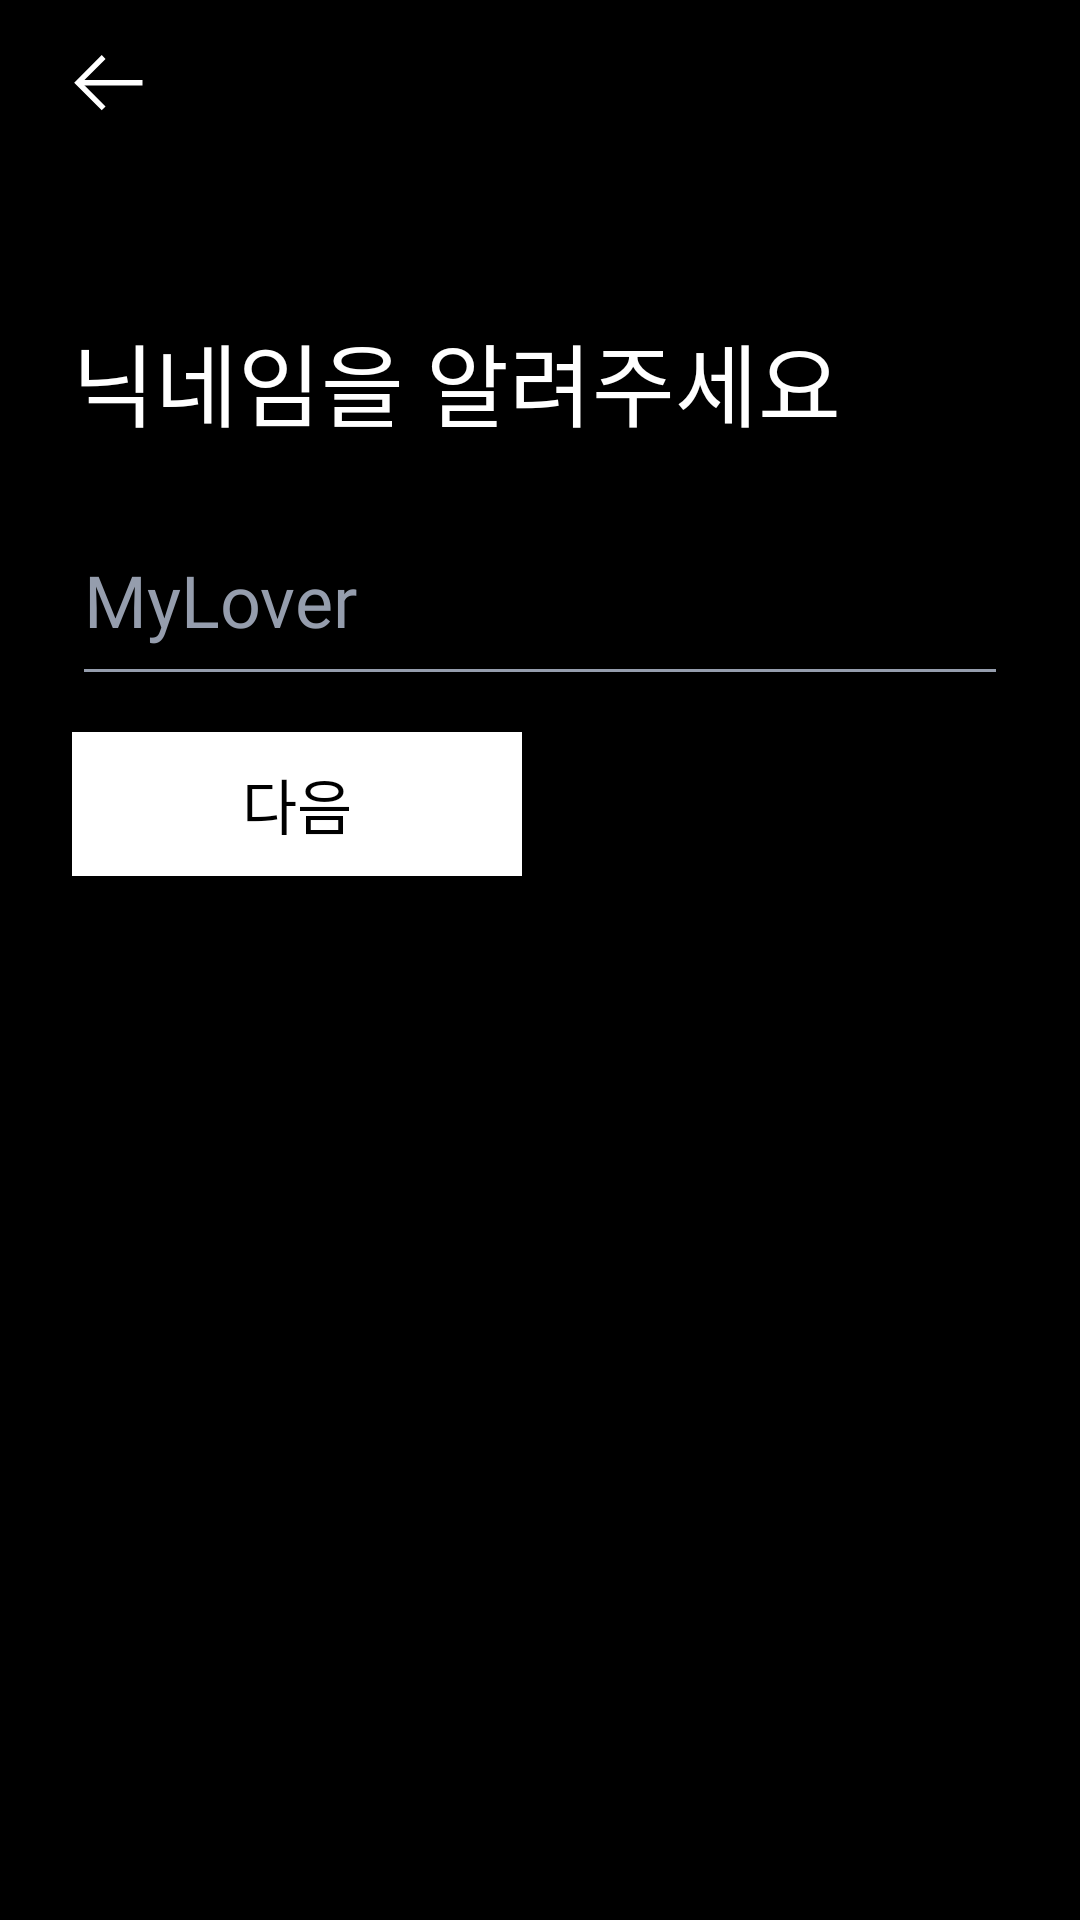

Screen size 1080x1920. Icon name, then its center in pixels as [x,y]:
back: [108,82]
